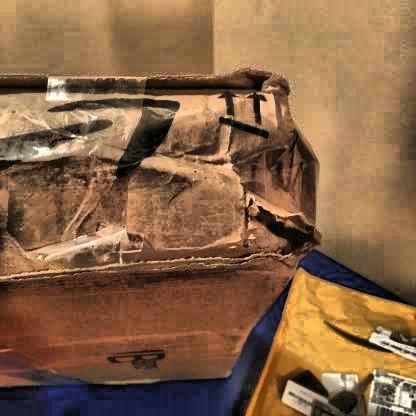defect parcel: (102, 27, 353, 300)
